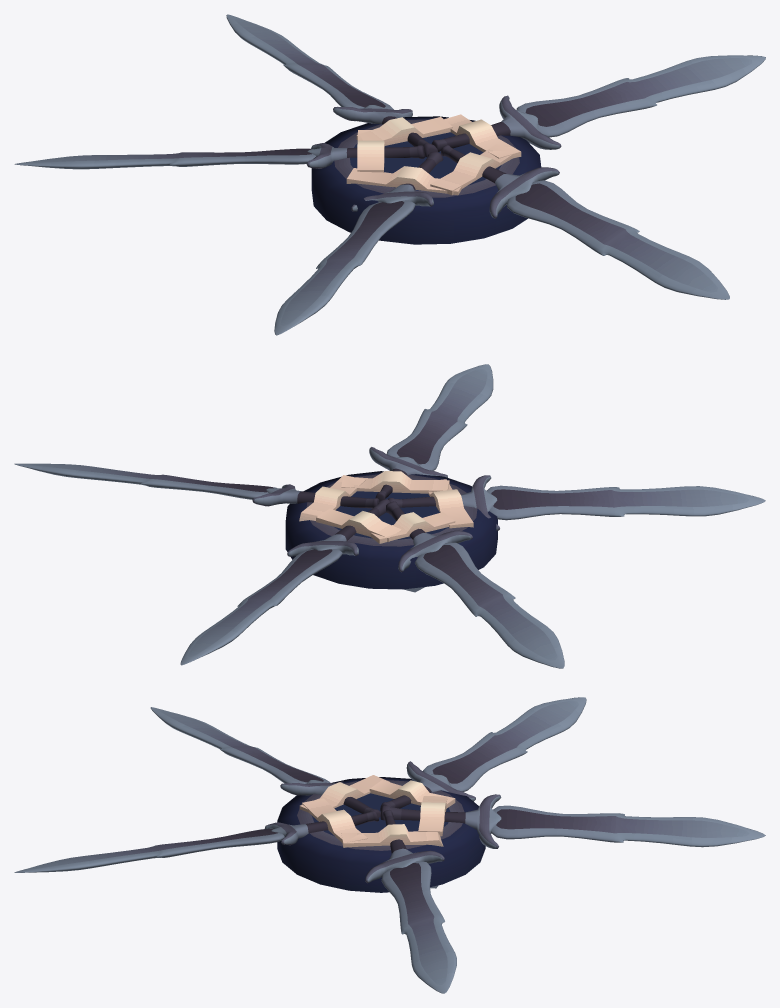
Rendered from SwordRoomba.fbx.
3 views of the same model, one above another, from view 1: azimuth 30°, elevation 25°; view 2: azimuth 150°, elevation 25°; view 3: azimuth 270°, elevation 25° (orthographic). The views are drawn at different scales.
Visible parts, largest first — view 1: pCylinder6; view 2: pCylinder6; view 3: pCylinder6.
Boxes of the visible parts, <box> form: pCylinder6: <box>14,14,765,335</box>; pCylinder6: <box>14,364,765,668</box>; pCylinder6: <box>14,697,765,993</box>.
Bounding box in the file's own units: 6.73 × 0.6383 × 7.22.
